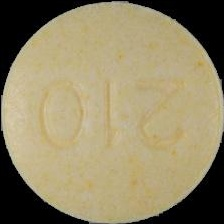33261-811: (0, 0, 224, 224)
